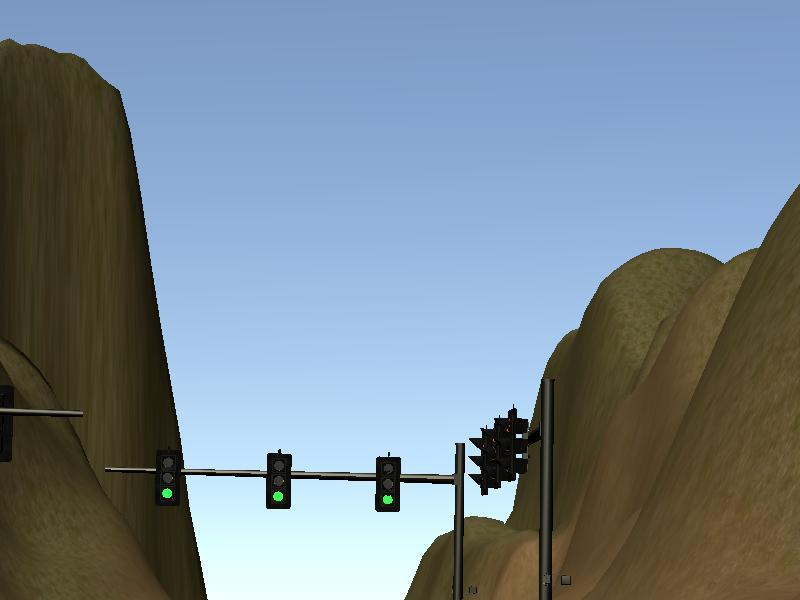Green: (374, 455, 400, 511), (267, 453, 290, 510), (157, 452, 179, 505)
